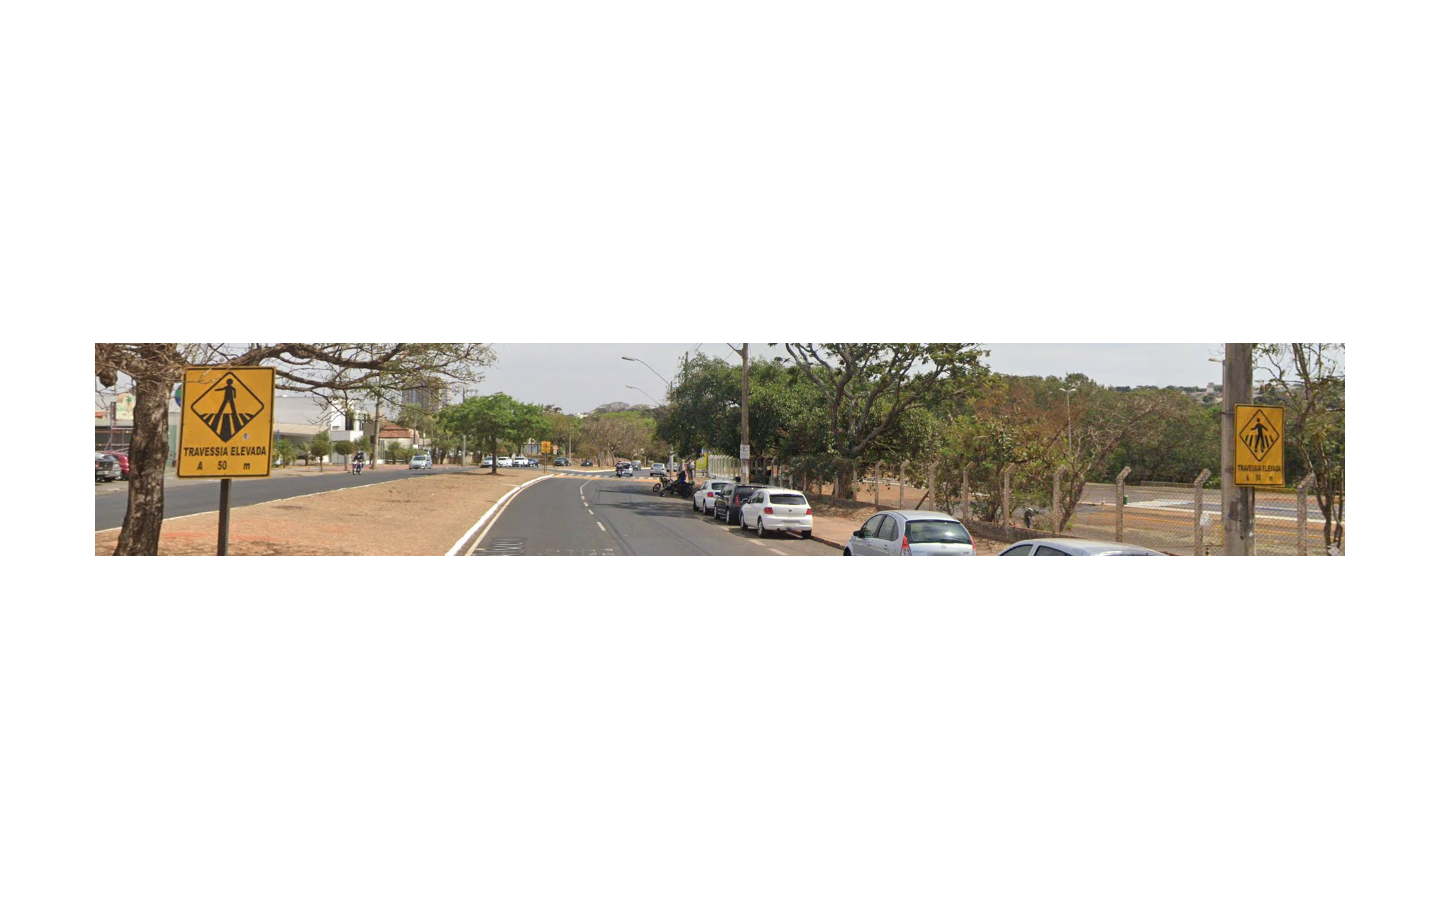t50m: (177, 366, 276, 479), (1234, 404, 1284, 487)
